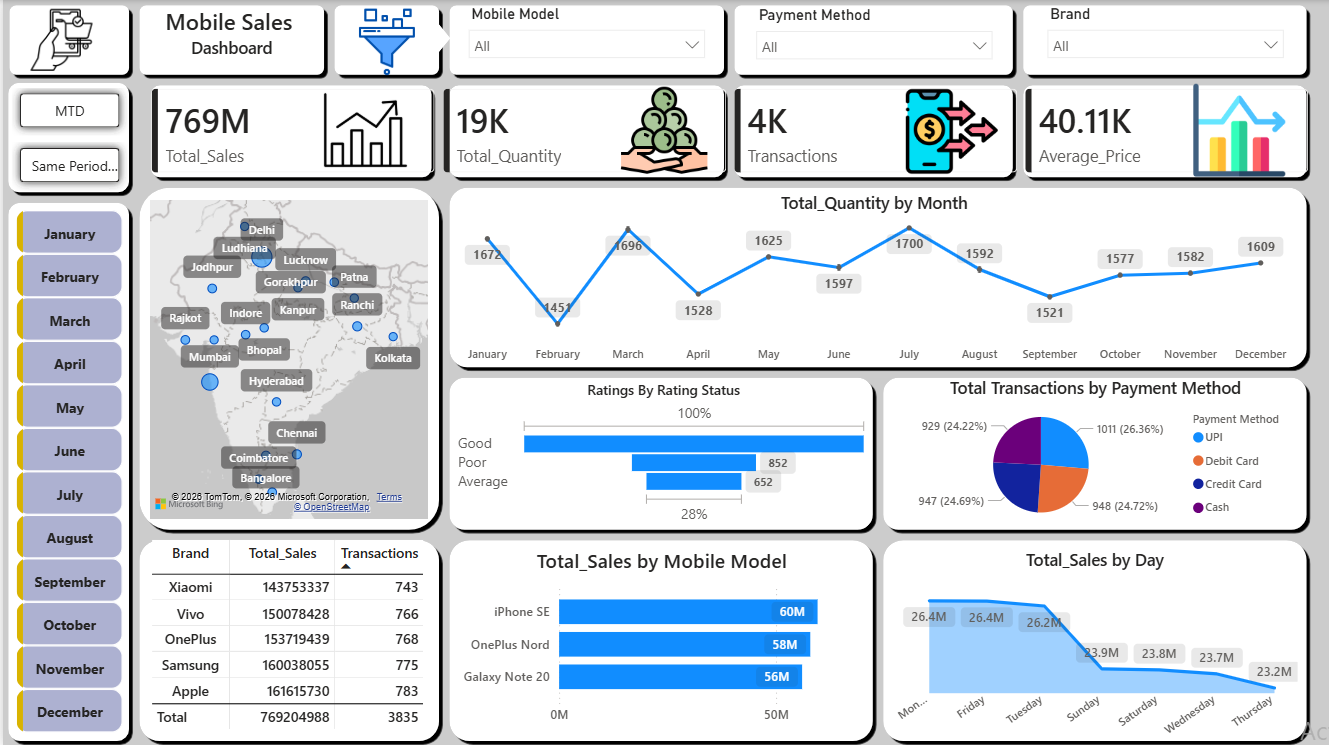

Layout of this report page (visuals, bound fields, positions):
{"tool":"powerbi","page":{"name":"Dashboard","canvas":[1280,720],"ordinal":0},"visuals":[{"type":"shape","box":[1.2,0,125.5,77.2],"z":0},{"type":"shape","box":[0,74.8,126.7,115.8],"z":1000},{"type":"shape","box":[314.9,0,111,77.2],"z":2000},{"type":"image","box":[19.3,8.4,74.8,60.3],"z":3000},{"type":"shape","title":"Mo","box":[126.7,0,188.2,77.2],"z":4000},{"type":"image","box":[322.1,7.2,96.5,66.4],"z":5000},{"type":"shape","box":[425.9,0,275.1,77.2],"z":6000},{"type":"slicer","fields":{"Values":["Sales_Data.Mobile Model"]},"box":[439.1,0,248.5,74.8],"z":7000},{"type":"shape","box":[700.9,0,278.7,77.2],"z":8000},{"type":"slicer","fields":{"Values":["Sales_Data.Payment Method"]},"box":[716.6,1.2,248.5,74.8],"z":9000},{"type":"shape","box":[979.6,0,283.5,77.2],"z":10000},{"type":"slicer","fields":{"Values":["Sales_Data.Brand"]},"box":[997.7,0,248.5,74.8],"z":11000},{"type":"shape","box":[0,190.6,126.7,529.6],"z":12000},{"type":"advancedSlicerVisual","fields":{"Values":["Custom Calander.Date.Variation.Date Hierarchy.Month"]},"box":[8.4,197.9,112.2,522.4],"z":13000},{"type":"shape","box":[126.7,176.1,299.2,340.2],"z":14000},{"type":"map","fields":{"Category":["Sales_Data.City"],"Size":["Sales_Data.Total_Sales"]},"box":[142.4,193,267.8,307.6],"z":15000},{"type":"shape","box":[425.9,176.1,837.3,183.4],"z":16000},{"type":"lineChart","fields":{"Category":["Custom Calander.Date.Variation.Date Hierarchy.Month"],"Y":["Sales_Data.Total_Quantity"]},"box":[435.5,184.6,810.7,174.9],"z":17000},{"type":"shape","box":[126.7,516.4,299.2,203.9],"z":18000},{"type":"tableEx","fields":{"Values":["Sales_Data.Brand","Sales_Data.Total_Sales","Sales_Data.Transactions"]},"box":[137.5,516.4,293.2,203.9],"z":19000},{"type":"shape","box":[425.9,359.5,418.6,156.8],"z":20000},{"type":"funnel","title":"Ratings By Rating Status","fields":{"Y":["CountNonNull(Sales_Data.Customer Ratings)"],"Category":["Sales_Data.Rating_status"]},"box":[434.3,366.8,406.6,142.4],"z":21000},{"type":"shape","box":[425.9,516.4,418.6,203.9],"z":22000},{"type":"clusteredBarChart","fields":{"Y":["Sales_Data.Total_Sales"],"Category":["Sales_Data.Mobile Model"]},"box":[437.9,528.4,395.7,179.8],"z":23000},{"type":"shape","box":[844.5,359.5,418.6,156.8],"z":24000},{"type":"donutChart","title":"Total Transactions by Payment Method","fields":{"Category":["Sales_Data.Payment Method"],"Y":["Sales_Data.Transactions"]},"box":[850.5,363.1,407.8,149.6],"z":25000},{"type":"shape","box":[844.5,516.4,418.6,203.9],"z":26000},{"type":"areaChart","fields":{"Y":["Sales_Data.Total_Sales"],"Category":["Custom Calander.Day"]},"box":[853,528.4,401.7,191.8],"z":27000},{"type":"shape","box":[137.5,77.2,281.1,98.9],"z":28000},{"type":"shape","box":[425.9,77.2,275.1,98.9],"z":29000},{"type":"shape","box":[700.9,77.2,278.7,98.9],"z":30000},{"type":"shape","box":[979.6,77.2,283.5,98.9],"z":31000},{"type":"cardVisual","fields":{"Data":["Sales_Data.Total_Sales","Sales_Data.Total_Quantity","Sales_Data.Transactions","Sales_Data.Average_Price"]},"box":[126.7,68.8,1153.4,115.8],"z":32000},{"type":"shape","box":[405.4,20.5,26.5,32.6],"z":33000},{"type":"textbox","box":[126.7,1.2,188.2,72.4],"z":34000},{"type":"image","box":[284.7,74.8,130.3,101.3],"z":35000},{"type":"image","box":[573.1,80.8,130.3,89.3],"z":36000},{"type":"image","box":[850.5,82,130.3,89.3],"z":37000},{"type":"image","box":[1128,80.8,130.3,89.3],"z":38000},{"type":"pageNavigator","box":[8.1,81.9,112.8,102.1],"z":39000}]}

Visuals, with their boxes in screenshot pixels (x1, y1, x2, y2), scaled from the page's 1280x720 canvas onto the 1329x745 screenshot:
shape: 1 0 132 80
shape: 0 77 132 197
shape: 327 0 442 80
image: 20 9 98 71
"Mo" shape: 132 0 327 80
image: 334 7 435 76
shape: 442 0 728 80
slicer - Sales_Data.Mobile Model: 456 0 714 77
shape: 728 0 1017 80
slicer - Sales_Data.Payment Method: 744 1 1002 79
shape: 1017 0 1311 80
slicer - Sales_Data.Brand: 1036 0 1294 77
shape: 0 197 132 744
advancedSlicerVisual - Custom Calander.Date.Variation.Date Hierarchy.Month: 9 205 125 744
shape: 132 182 442 534
map - Sales_Data.City x Sales_Data.Total_Sales: 148 200 426 518
shape: 442 182 1312 372
lineChart - Custom Calander.Date.Variation.Date Hierarchy.Month x Sales_Data.Total_Quantity: 452 191 1294 372
shape: 132 534 442 744
tableEx - Sales_Data.Brand x Sales_Data.Total_Sales: 143 534 447 744
shape: 442 372 877 534
"Ratings By Rating Status" funnel: 451 380 873 527
shape: 442 534 877 744
clusteredBarChart - Sales_Data.Total_Sales x Sales_Data.Mobile Model: 455 547 866 733
shape: 877 372 1311 534
"Total Transactions by Payment Method" donutChart: 883 376 1306 531
shape: 877 534 1311 744
areaChart - Sales_Data.Total_Sales x Custom Calander.Day: 886 547 1303 744
shape: 143 80 435 182
shape: 442 80 728 182
shape: 728 80 1017 182
shape: 1017 80 1311 182
cardVisual - Sales_Data.Total_Sales x Sales_Data.Total_Quantity: 132 71 1328 191
shape: 421 21 448 55
textbox: 132 1 327 76
image: 296 77 431 182
image: 595 84 730 176
image: 883 85 1018 177
image: 1171 84 1306 176
pageNavigator: 8 85 126 190
